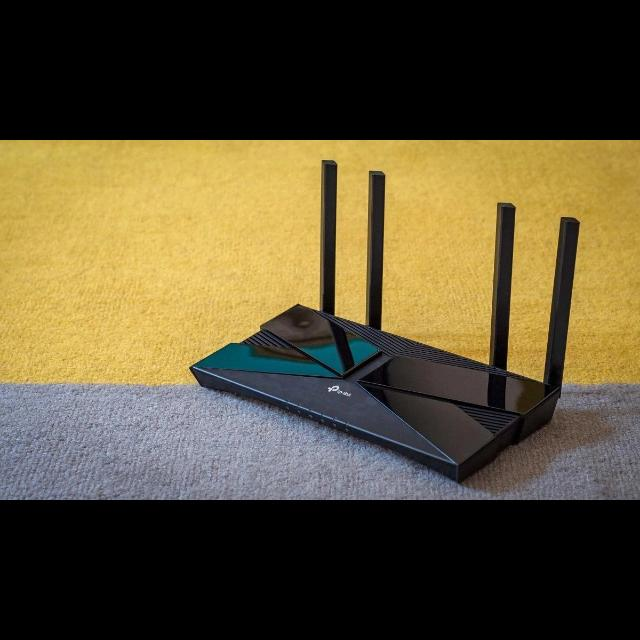Router: (190, 160, 581, 483)
